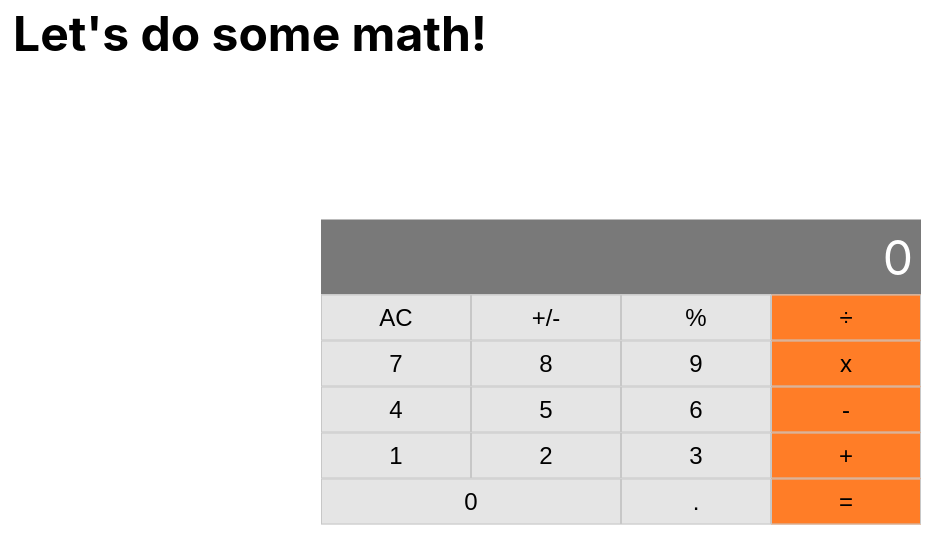
Test: Calculator tests › Simulation of user interaction with the calculator: 7
Click the button "7". click: (396, 364)
box: [321,340,471,386]
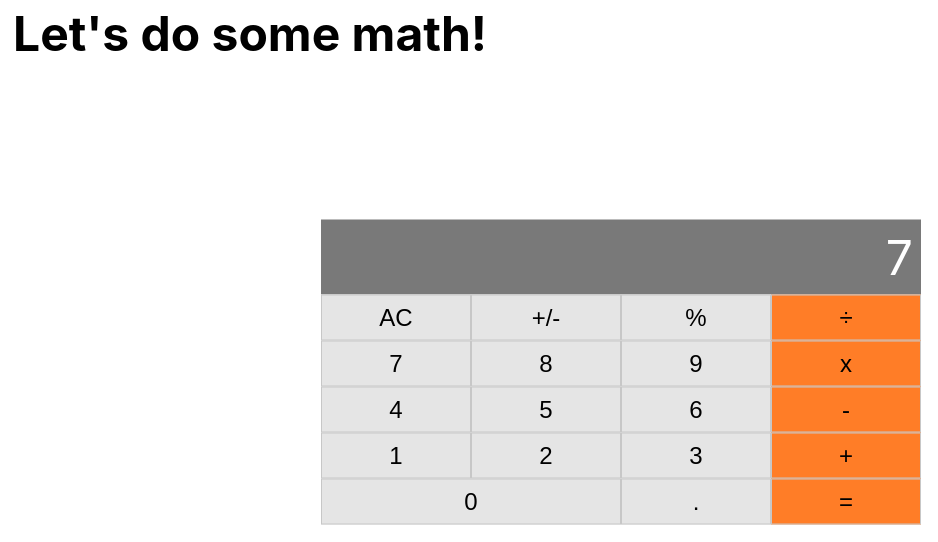
Result: the text "7" is shown at [321,220,921,294]
